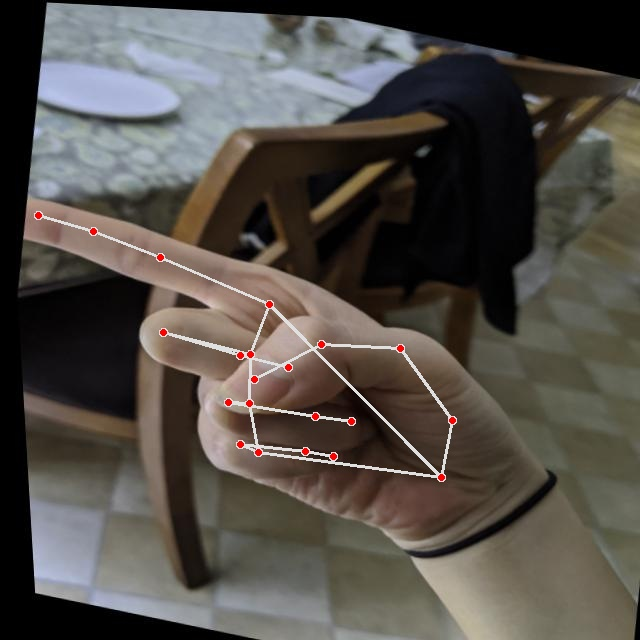G: (9, 190, 557, 570)
